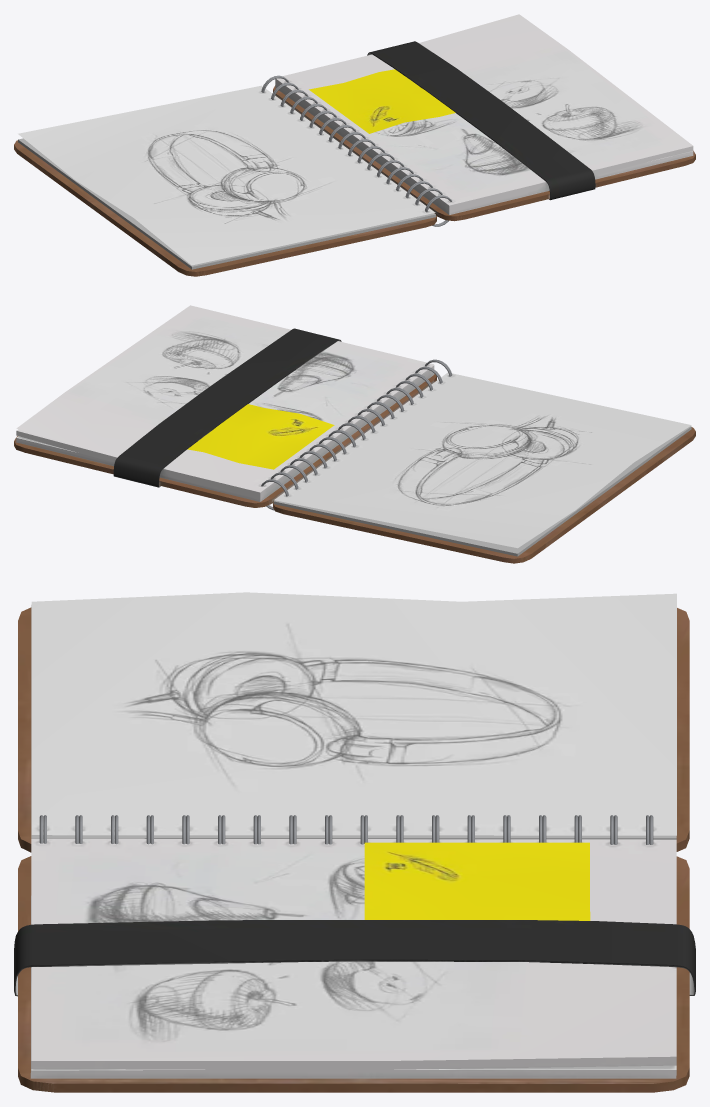
Rendered from notebook.glb.
3 renders of one model, top to bottom at view 1: azimuth 30°, elevation 25°; view 2: azimuth 150°, elevation 25°; view 3: azimuth 270°, elevation 25°, orthographic. The views are drawn at different scales.
Parts seen in each view (by area): view 1: notebook_04_low_low_0; view 2: notebook_04_low_low_0; view 3: notebook_04_low_low_0.
Part boxes in pixels (box(x1,y1,x2,y2)): notebook_04_low_low_0: box(14, 14, 695, 276); notebook_04_low_low_0: box(14, 305, 695, 563); notebook_04_low_low_0: box(14, 592, 695, 1092).
Bounding box in the file's own units: 342 × 19.11 × 212.
1 material, 1 textured.
